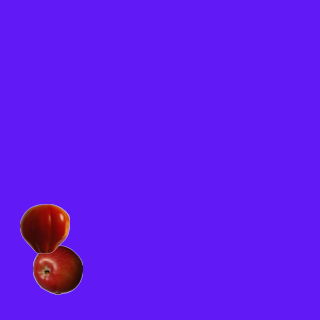Apple Braeburn: (32, 244, 82, 294)
Tomato 1: (19, 203, 69, 253)
